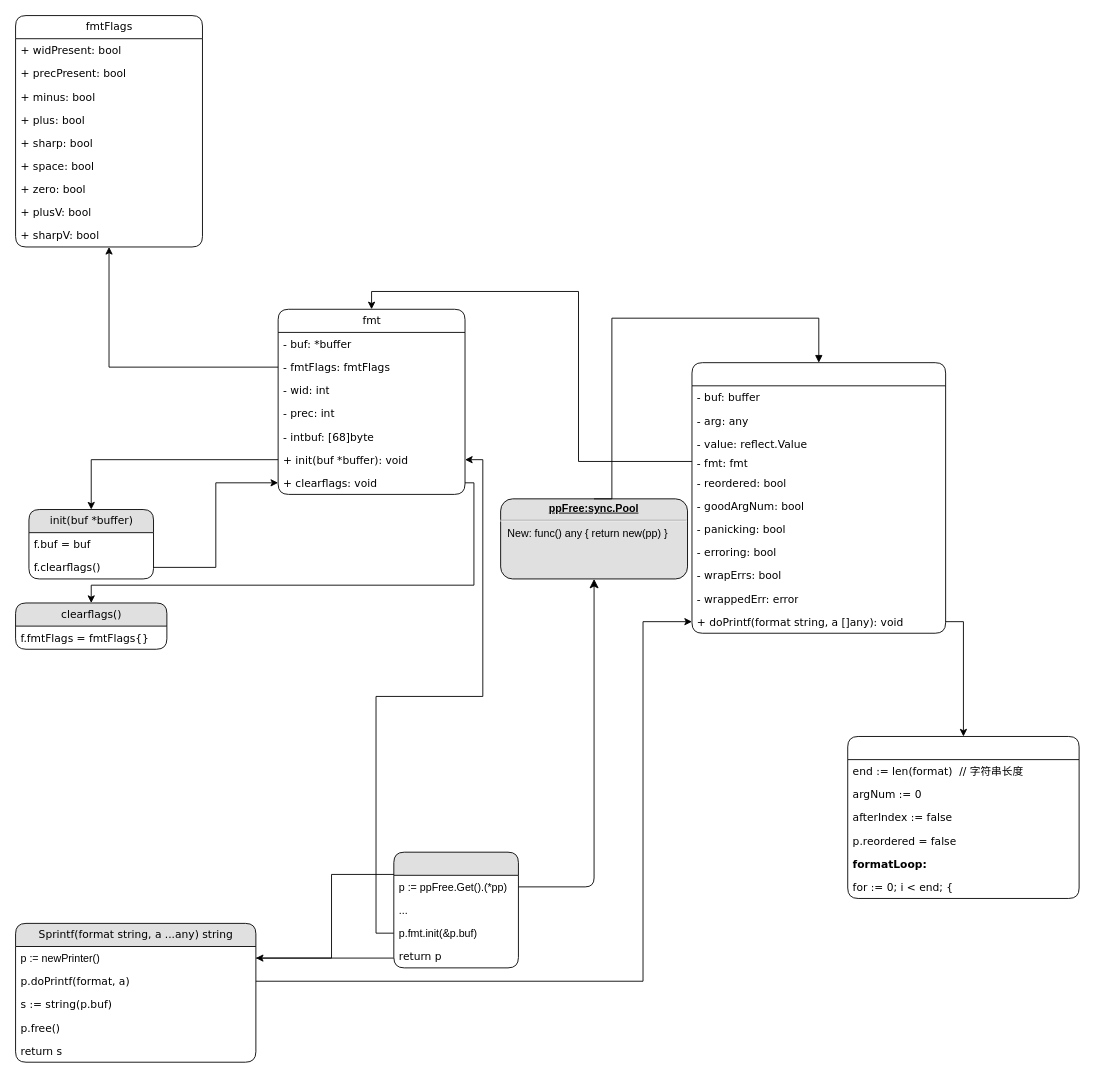
Some shapes in this 1095 by 1080 pixel diagram are drawn without their labels. The box of each missing label's shape, as (x1, y1, x2, y2) in pixels:
doPrintf(format string, a []any): (847, 736, 1079, 898)
newPrinter() *pp: (393, 851, 518, 968)
pp: (691, 362, 946, 633)
